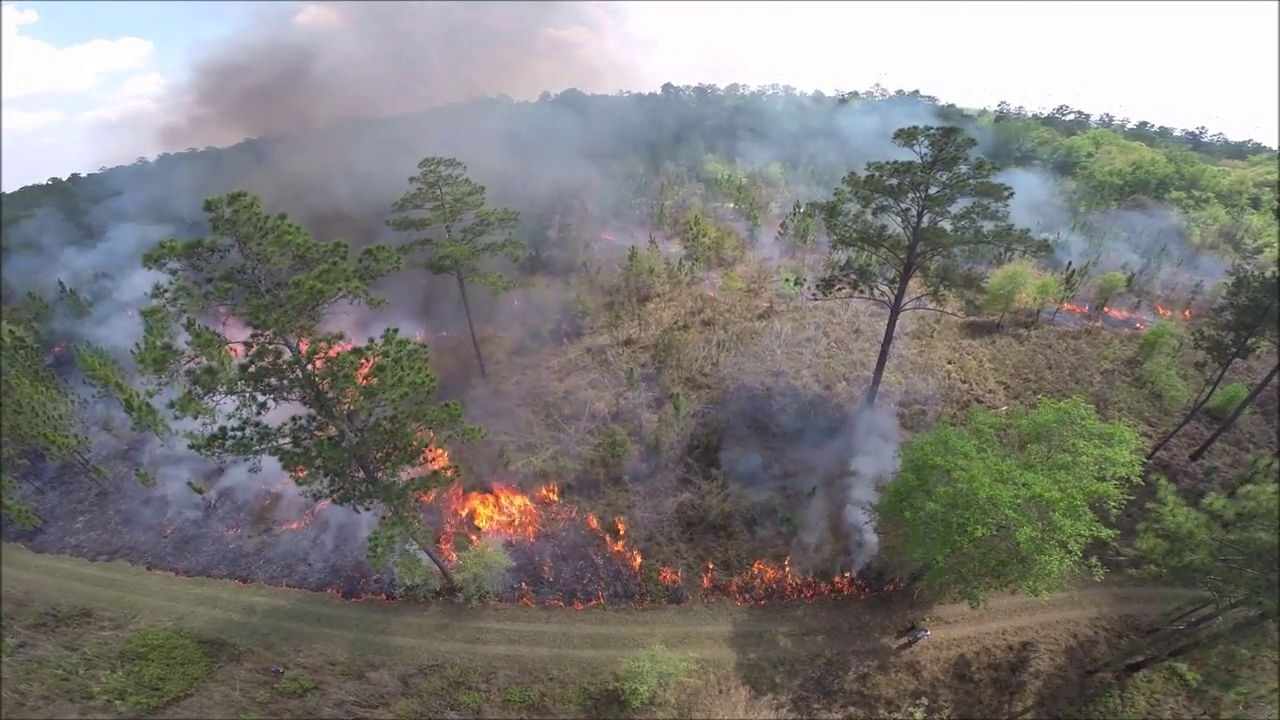forest_fire: (422, 483, 901, 608), (417, 481, 576, 562), (601, 518, 639, 569), (416, 446, 457, 477), (313, 341, 353, 365)
